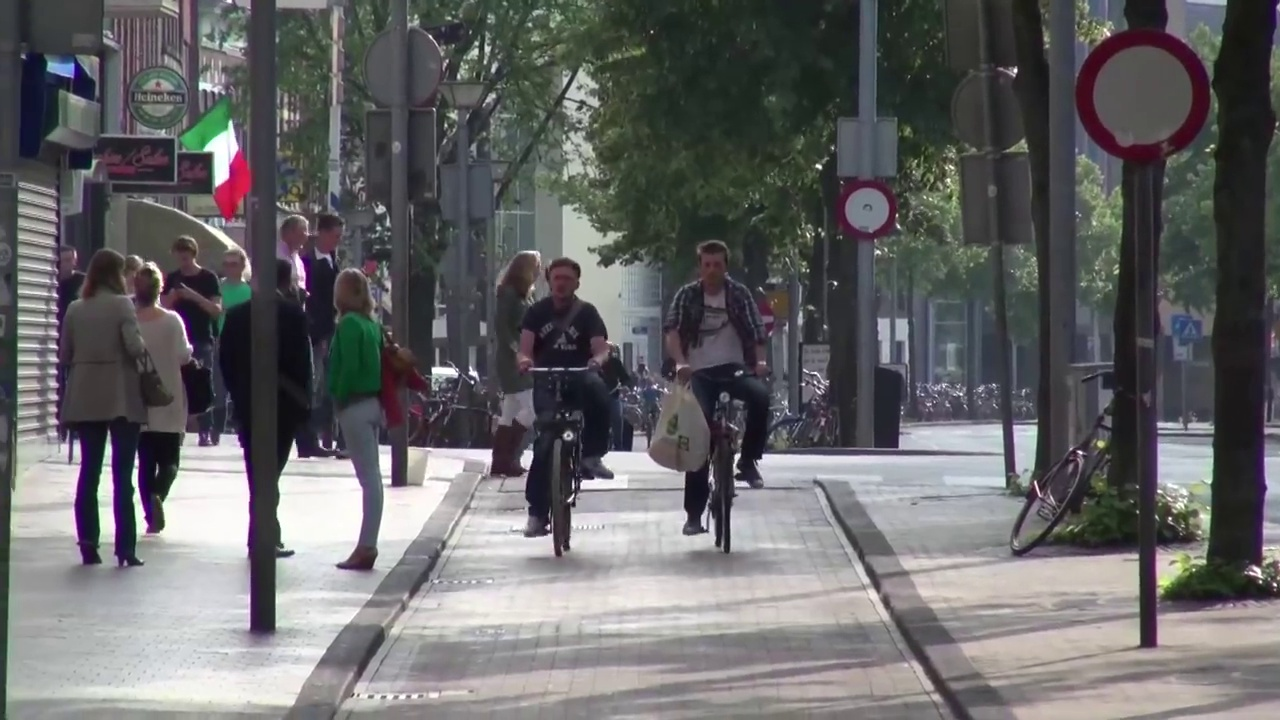cyclist_front: (662, 212, 766, 560), (515, 255, 623, 573)
